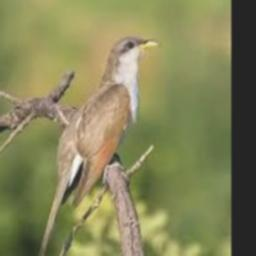Cuckoo: (38, 36, 160, 256)
